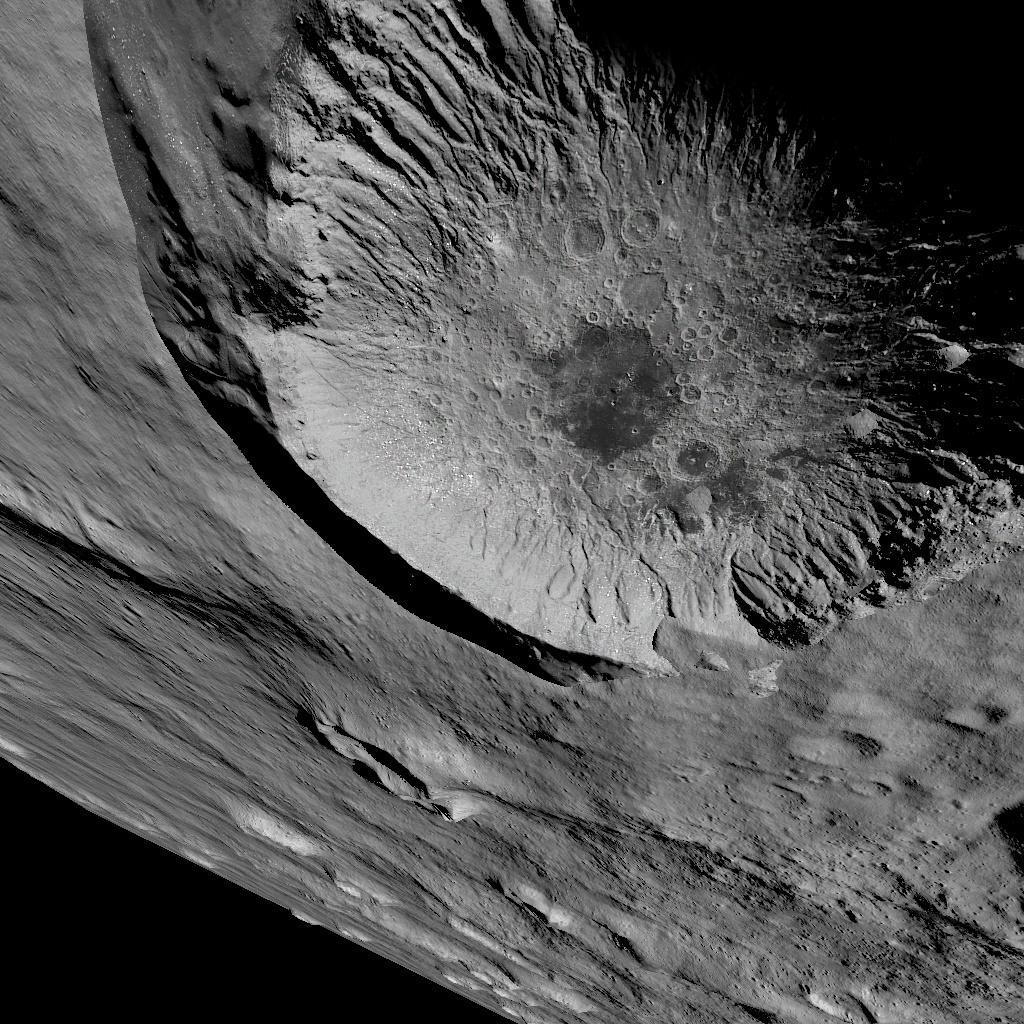Crater: (61, 0, 1024, 690), (270, 700, 448, 847)
Plan surface: (528, 710, 988, 1024)
